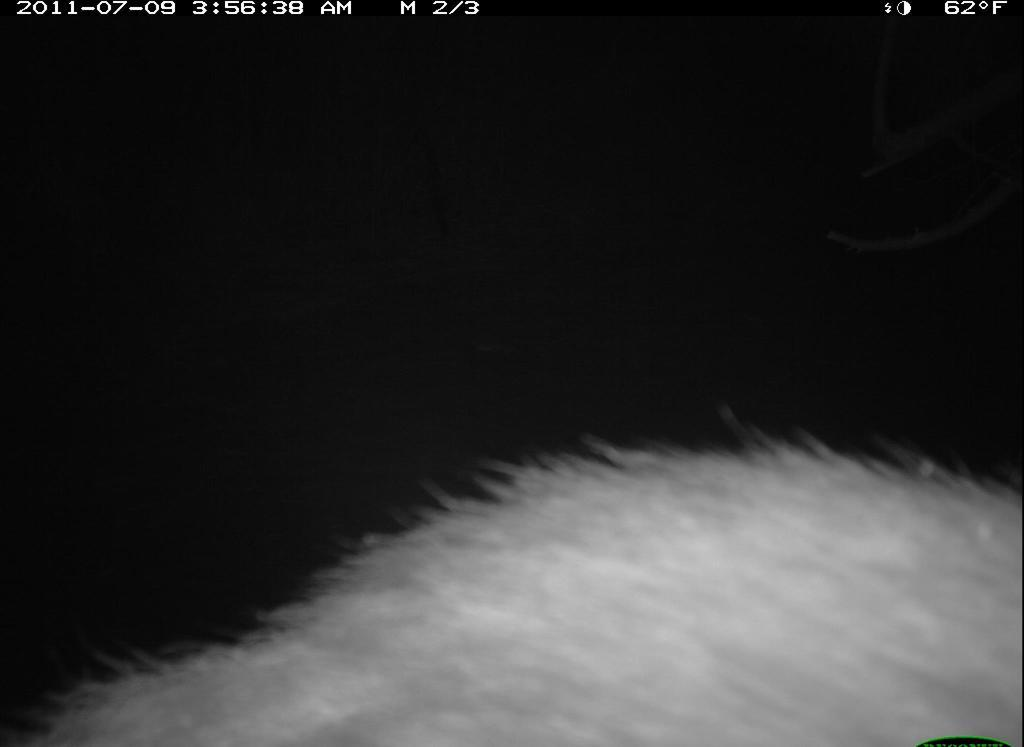raccoon: (3, 413, 1021, 747)
